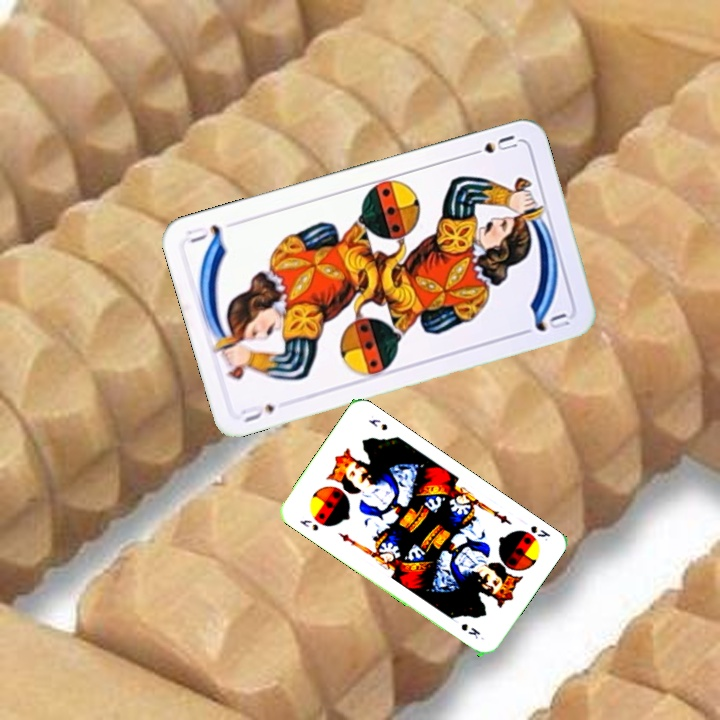SK: (526, 521, 553, 544), (295, 515, 321, 533)
SU: (463, 131, 520, 160), (237, 400, 278, 425)
